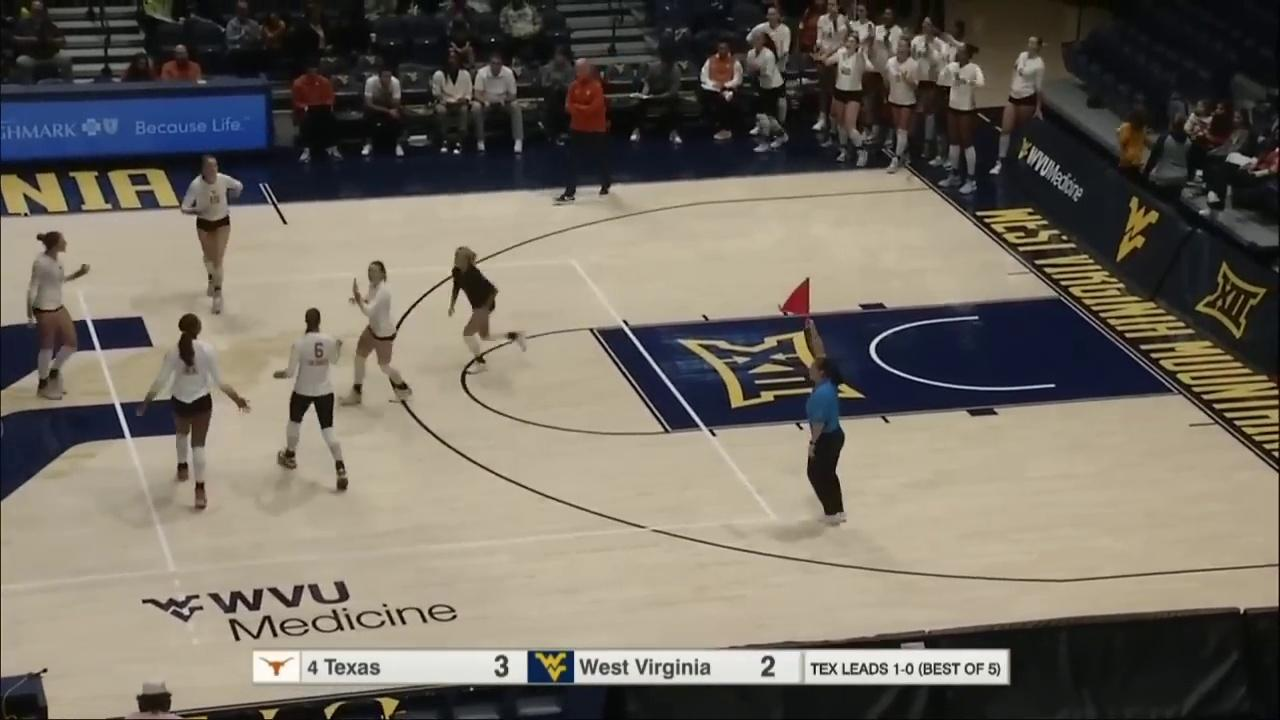player: (148, 314, 243, 511), (275, 308, 351, 490), (25, 230, 89, 401), (342, 260, 414, 405), (447, 247, 527, 373), (181, 156, 243, 313)
refree: (803, 337, 847, 524)
